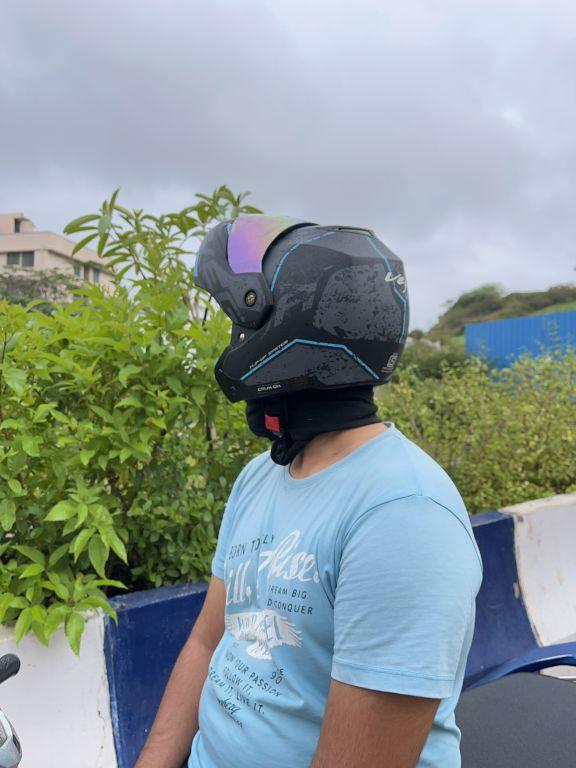helmet: (182, 204, 414, 441)
